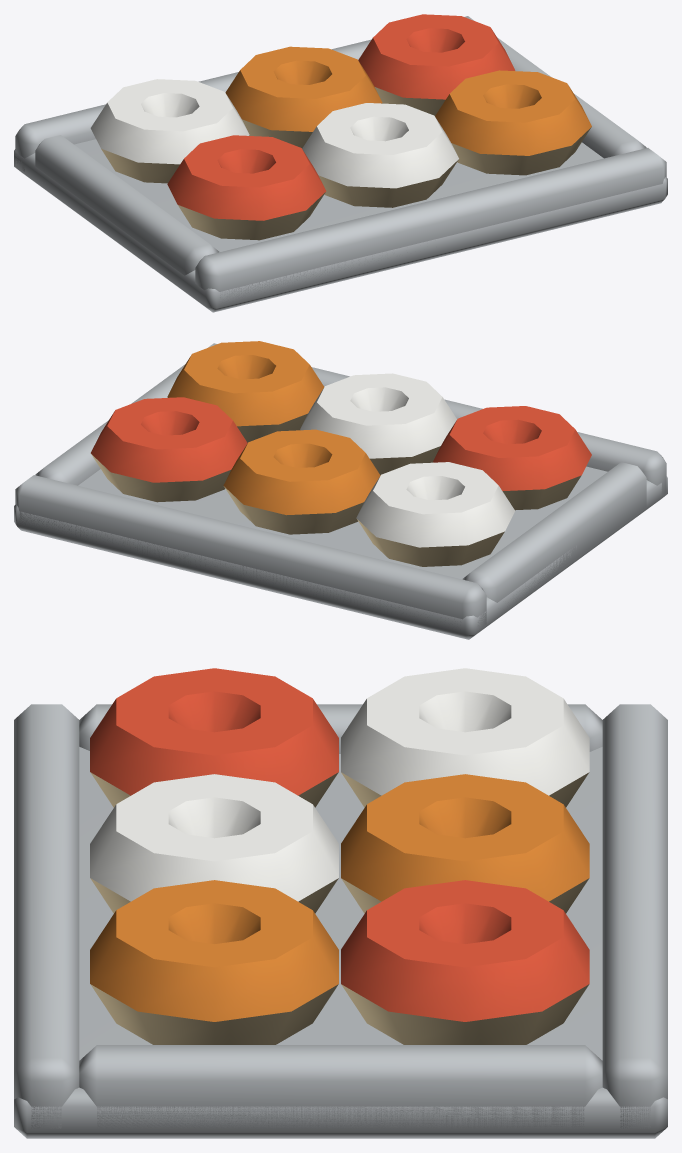
Rendered from Donut_Tray_01.glb.
3 renders of one model, top to bottom at view 1: azimuth 30°, elevation 25°; view 2: azimuth 150°, elevation 25°; view 3: azimuth 270°, elevation 25°, orthographic. The views are drawn at different scales.
Visible parts, largest first — view 1: SM_Donut_Tray_01; view 2: SM_Donut_Tray_01; view 3: SM_Donut_Tray_01.
Boxes of the visible parts, x1=… form: SM_Donut_Tray_01: x1=14, y1=14, x2=667, y2=312; SM_Donut_Tray_01: x1=14, y1=341, x2=667, y2=639; SM_Donut_Tray_01: x1=14, y1=668, x2=667, y2=1138.
Bounding box in the file's own units: 0.4 × 0.072 × 0.3.
Materials: 1 (1 with a texture image).
